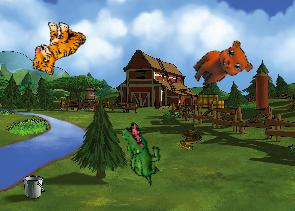bear: (187, 33, 257, 101)
crocodile: (107, 119, 174, 187)
tiger: (28, 16, 88, 81)
